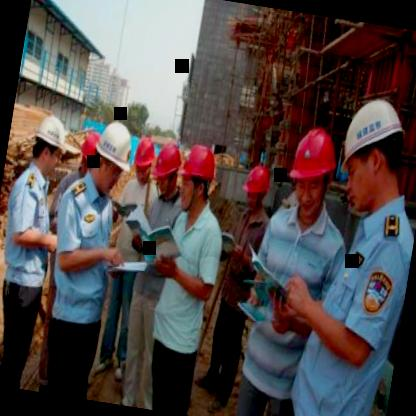helmet: (331, 93, 415, 220), (282, 126, 341, 223), (86, 119, 136, 202), (170, 140, 220, 219), (26, 108, 73, 181), (146, 135, 184, 204), (126, 136, 158, 193), (237, 164, 272, 216), (75, 130, 104, 181)
